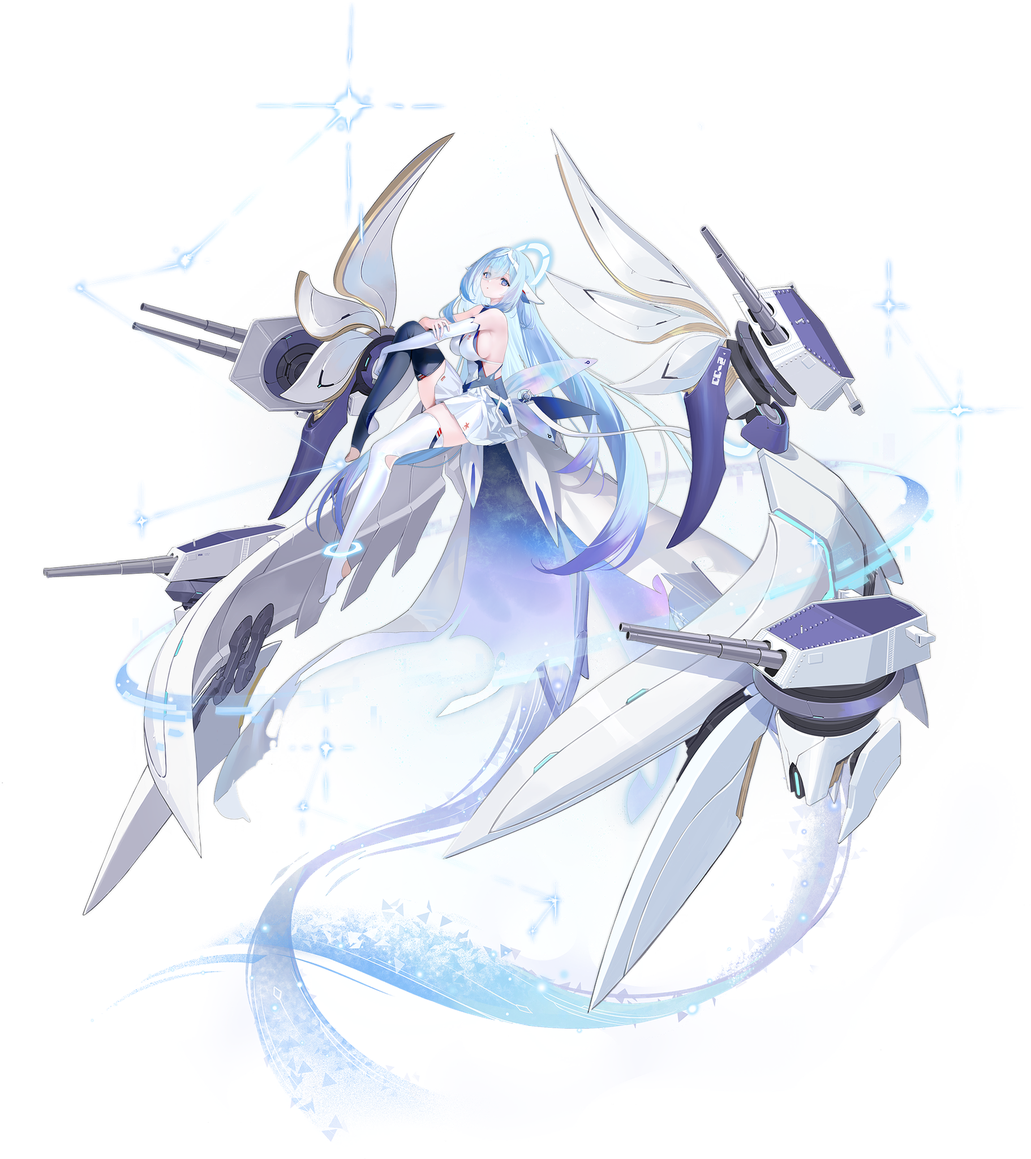person: (53, 109, 983, 1157)
